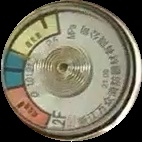green: (2, 51, 29, 90)
red: (6, 88, 53, 131)
yellow: (10, 8, 61, 57)
